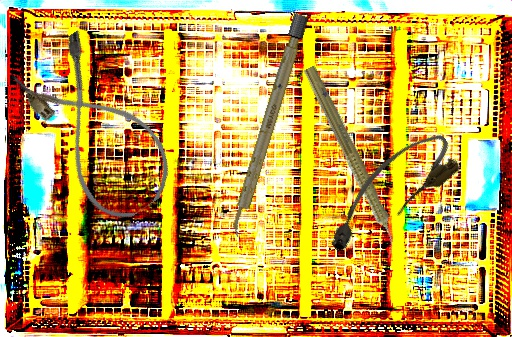Cannula: (6, 26, 187, 232), (311, 123, 467, 261)
Handpiece: (295, 63, 409, 260)
Scalpel Handle: (226, 12, 310, 239)
